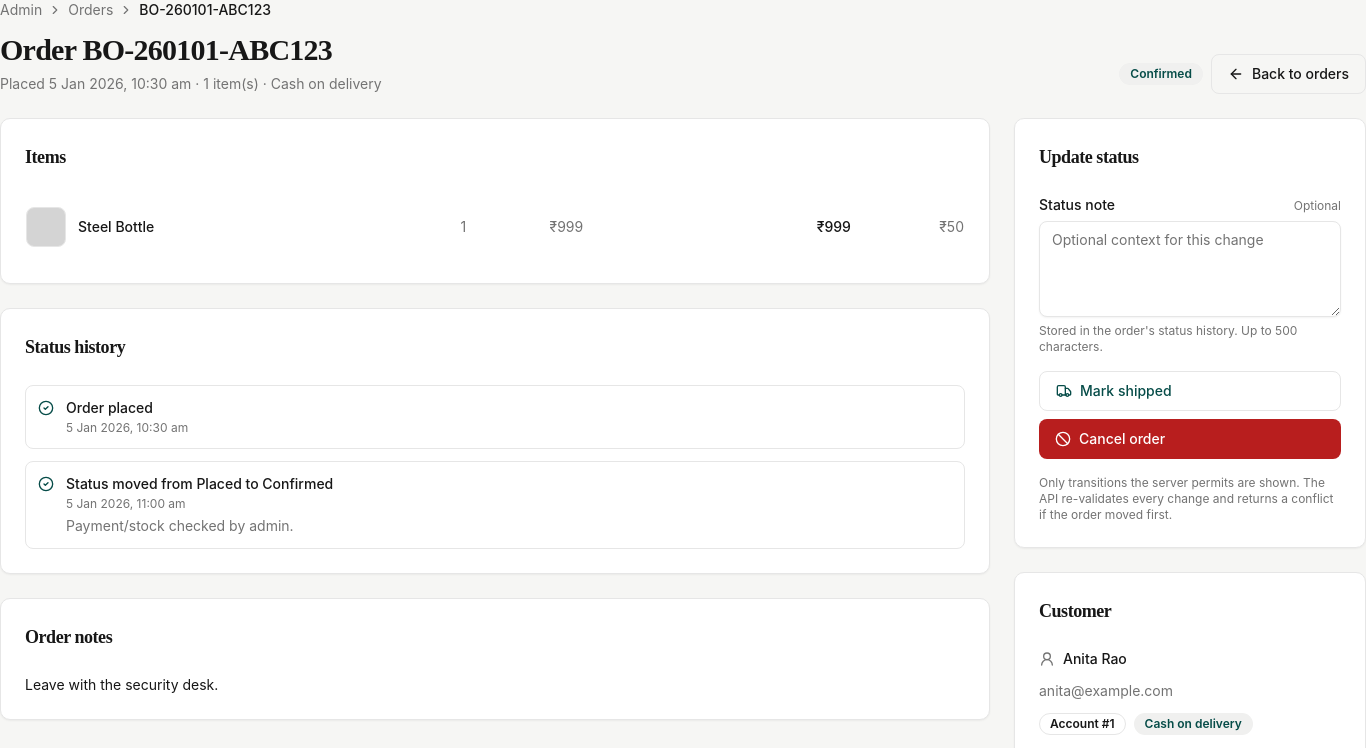
it: AdminOrderDetailPage › confirms cancellation, sends the note and updates the timeline
Expected: the heading "Order BO-260101-ABC123" is shown, [0, 32, 382, 68]
Type "Customer requested cancellation" into the text box labelled "Status note" at (1190, 269), box [1039, 221, 1341, 317]
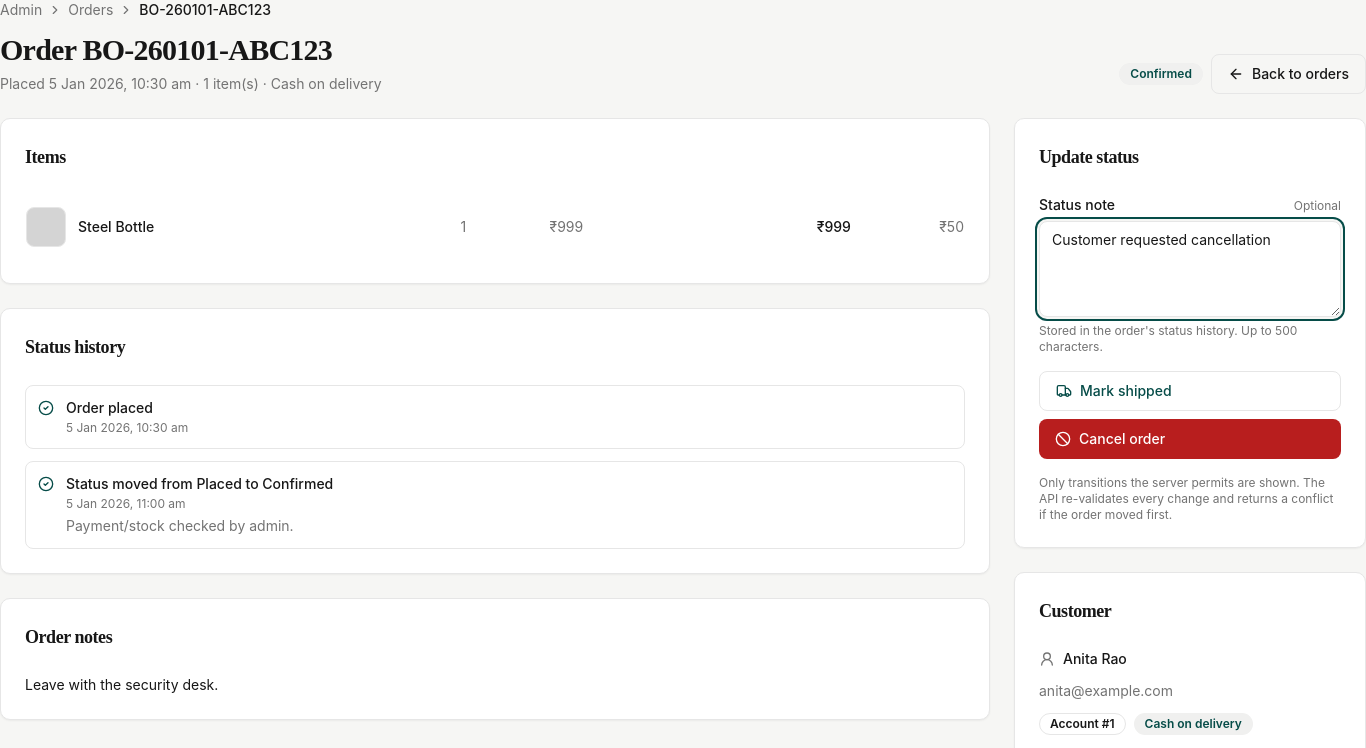
Click the button "Cancel order" at (1122, 438), box [1039, 419, 1341, 459]
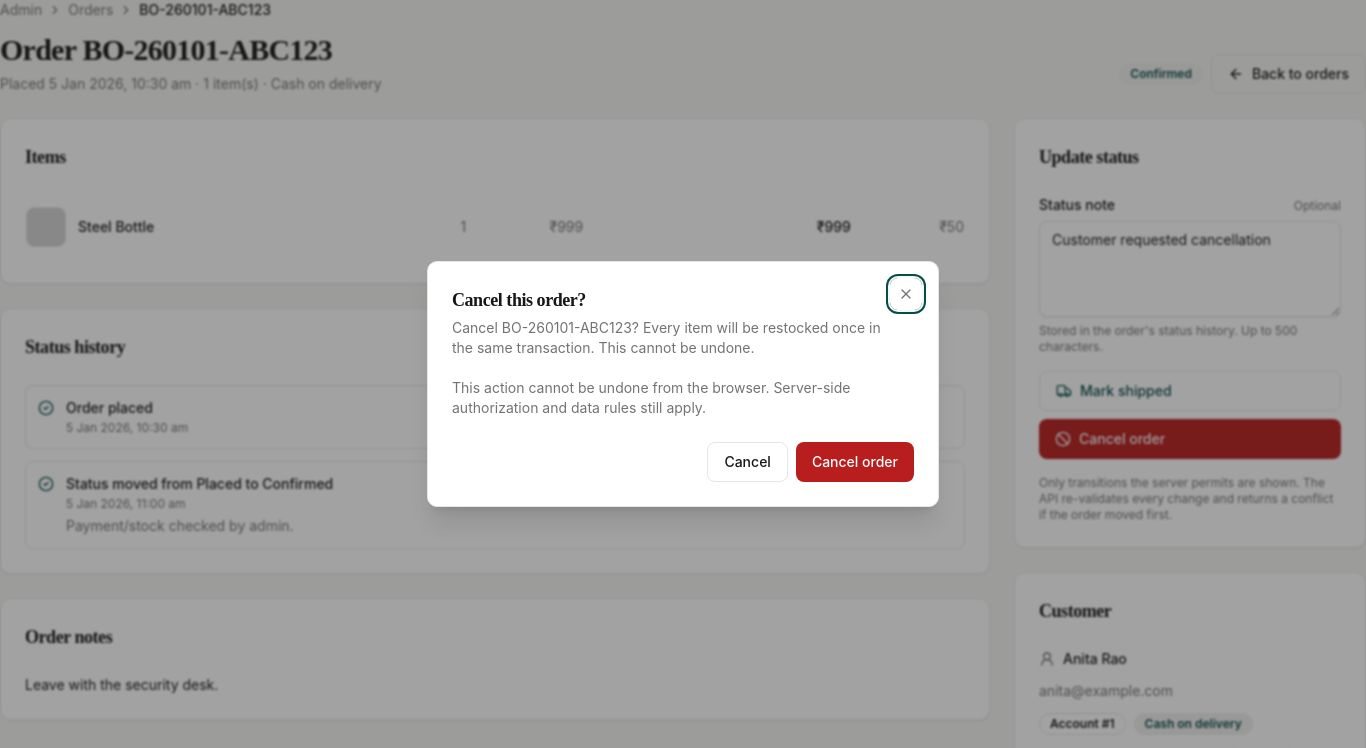
Now the heading "Cancel this order?" is shown, box [452, 290, 586, 310]
Now the text "restocked once" is shown, box [452, 319, 881, 356]
Click the button "Cancel order" at (855, 462), box [796, 442, 914, 482]
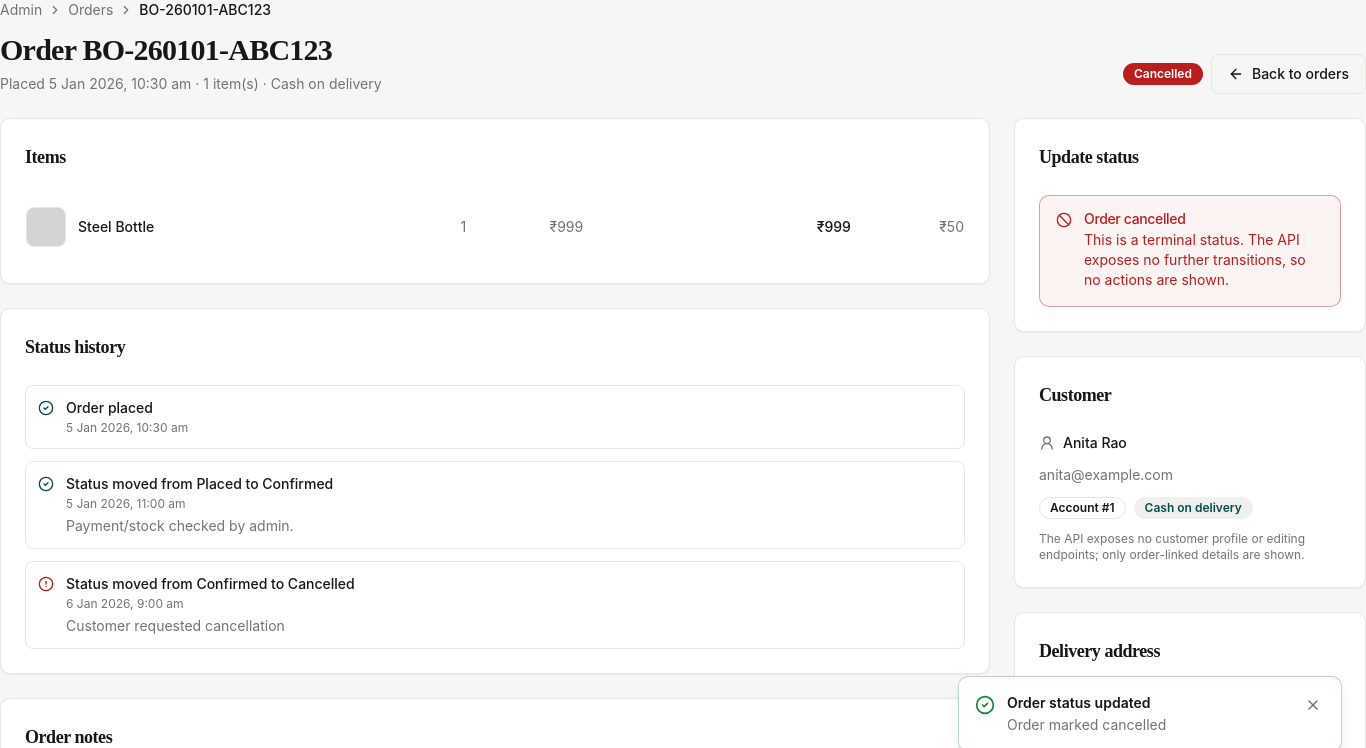
Now the text "Order status updated" is shown, box [1007, 694, 1150, 711]
Now the heading "Order cancelled" is shown, box [1084, 210, 1186, 227]
Now the text "Cancelled" is shown, box [1123, 63, 1203, 85]
